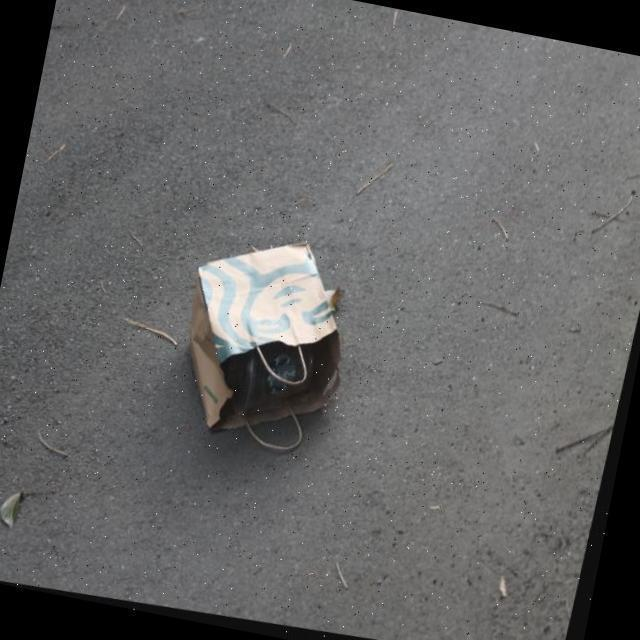Paper_Bag: (161, 220, 368, 468)
